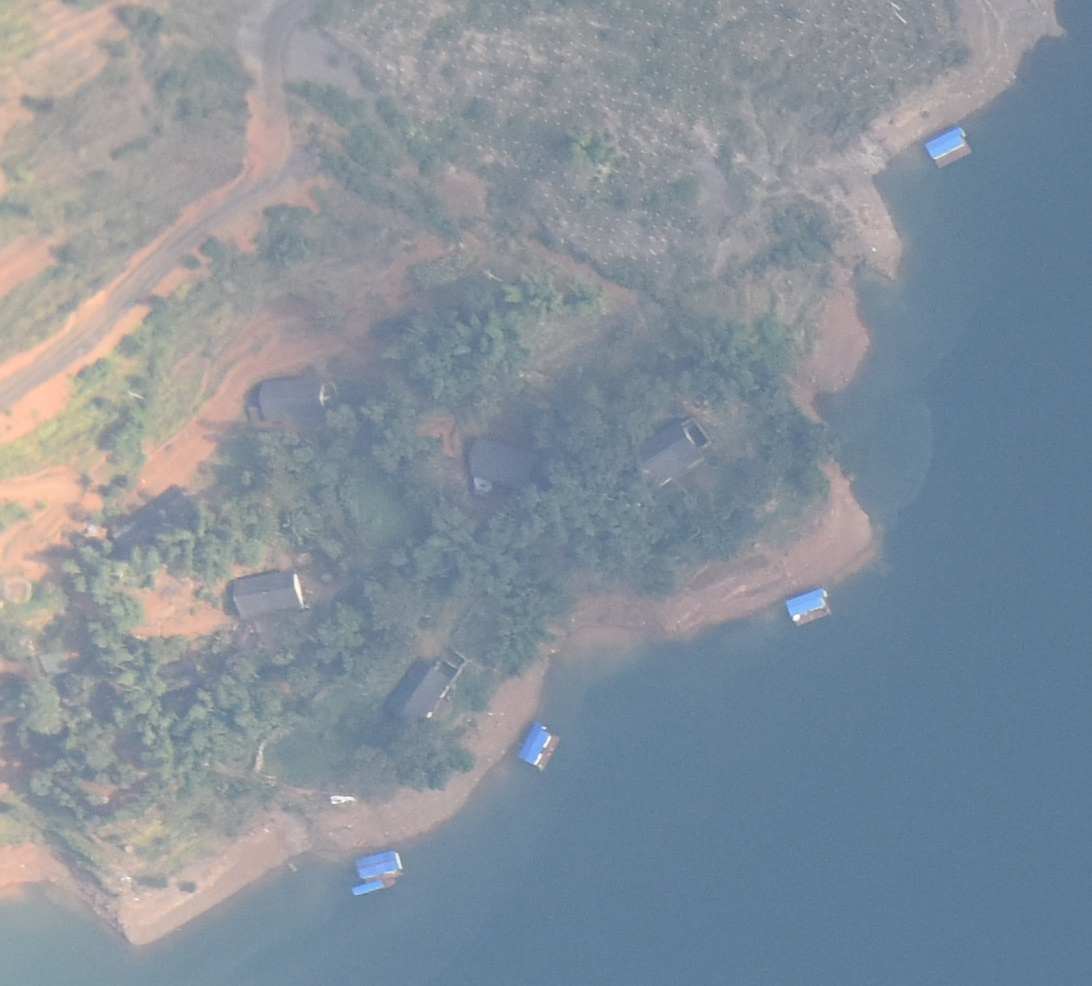building: (637, 417, 715, 484), (384, 655, 452, 725), (468, 437, 545, 493), (232, 570, 307, 619), (258, 376, 333, 422)
prefabricated-house: (355, 849, 407, 876), (519, 723, 549, 766), (925, 128, 966, 159), (786, 589, 829, 616), (352, 881, 387, 896)
